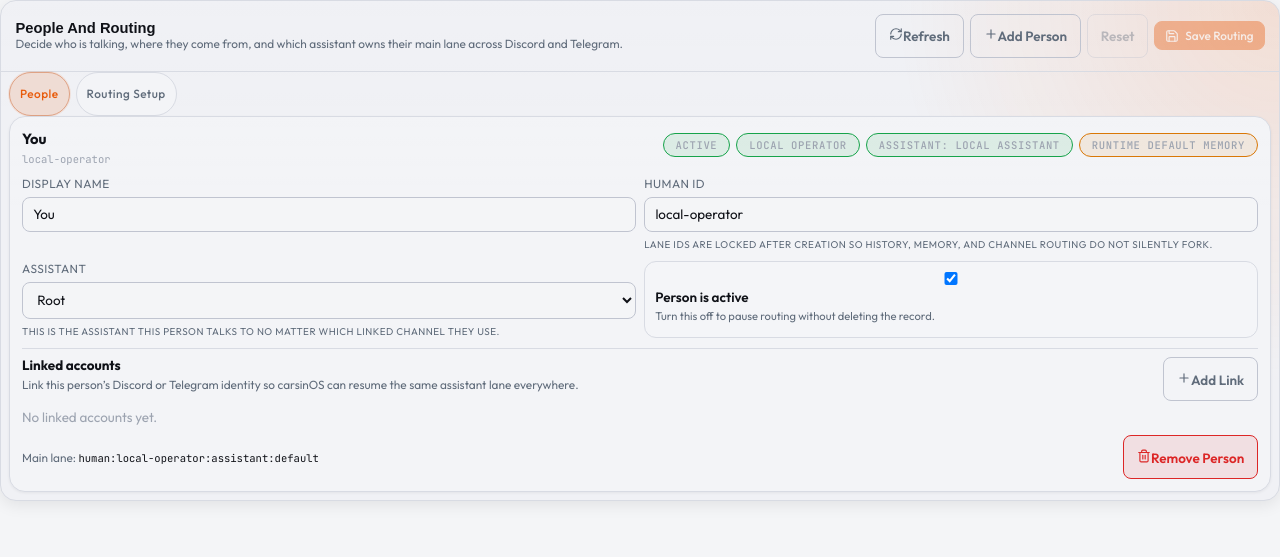
Test: PeopleRoutingSection authoritative Directory home › retains the draft and stays honest when the save fails
Select "Root" in the dropdown at (329, 300), box [22,282,636,319]
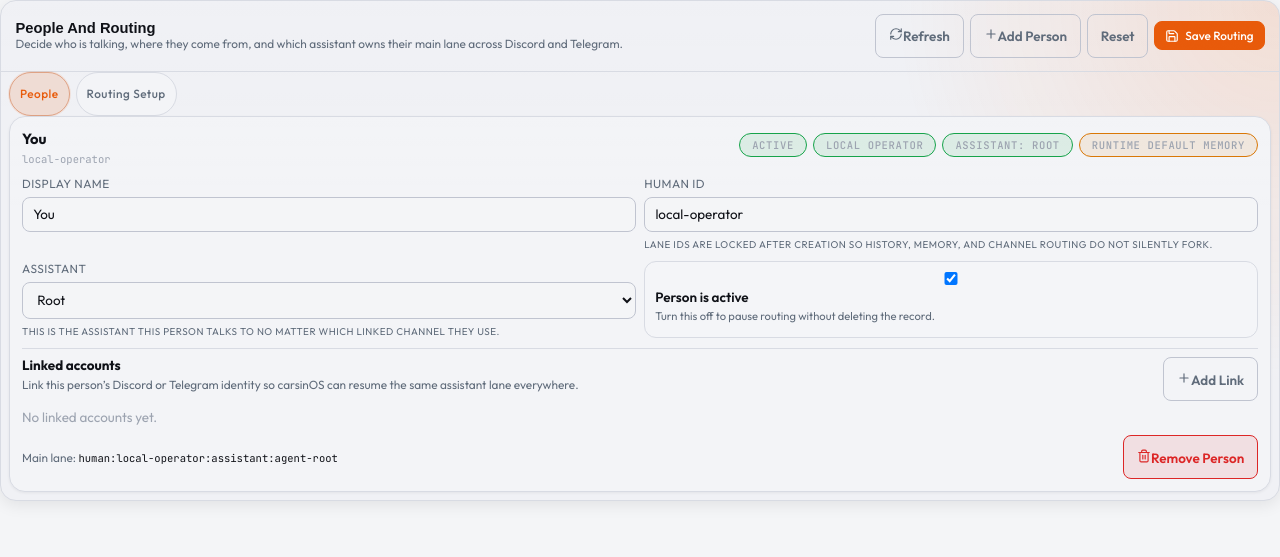
Click the button "Save Routing".
click(1209, 36)  # box [1154,21,1265,50]
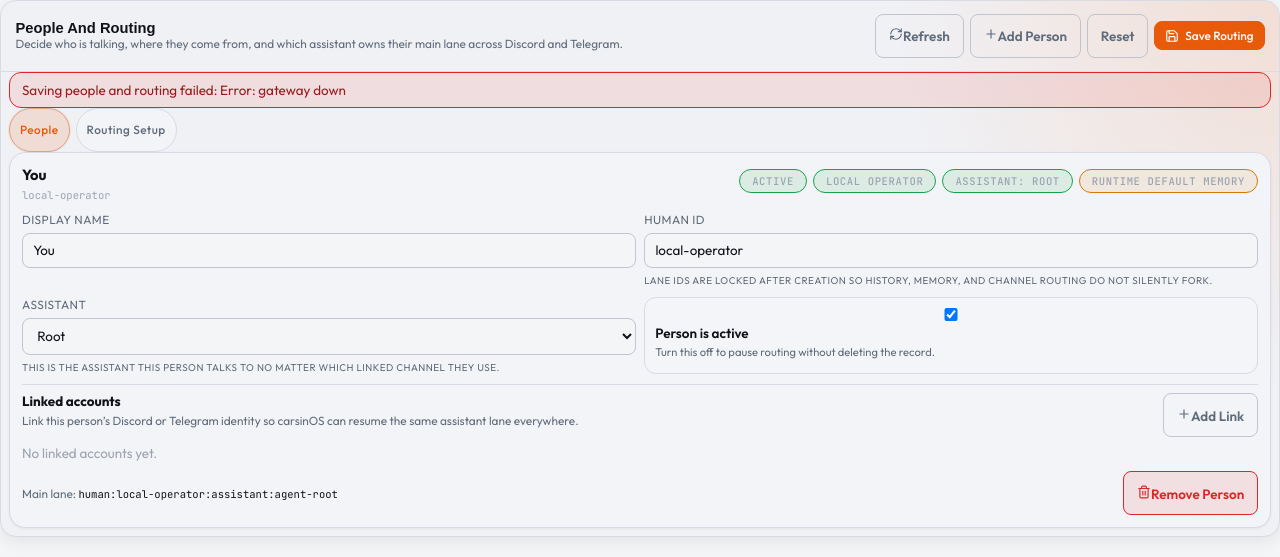
expect the text "assistant: Root" is shown: met, box [942,168,1073,192]
expect the text "Saving people and routing failed:" is shown: met, box [22,82,346,98]
expect the text "gateway down" is shown: met, box [22,82,346,98]
